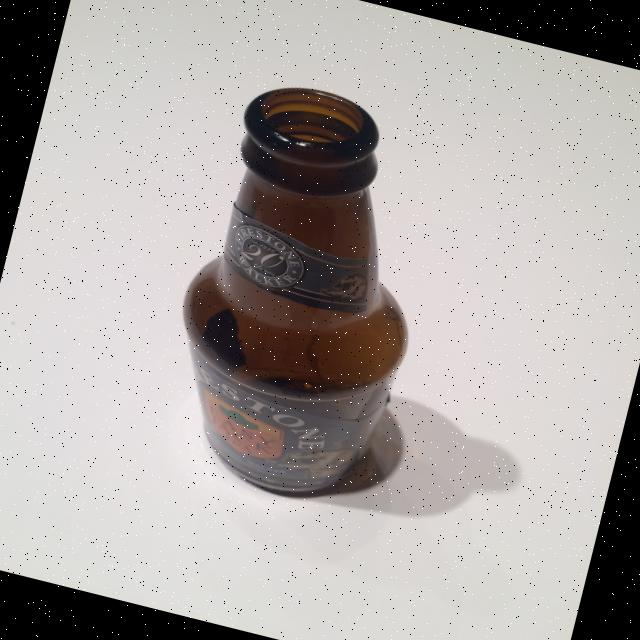glass: (142, 68, 470, 517)
